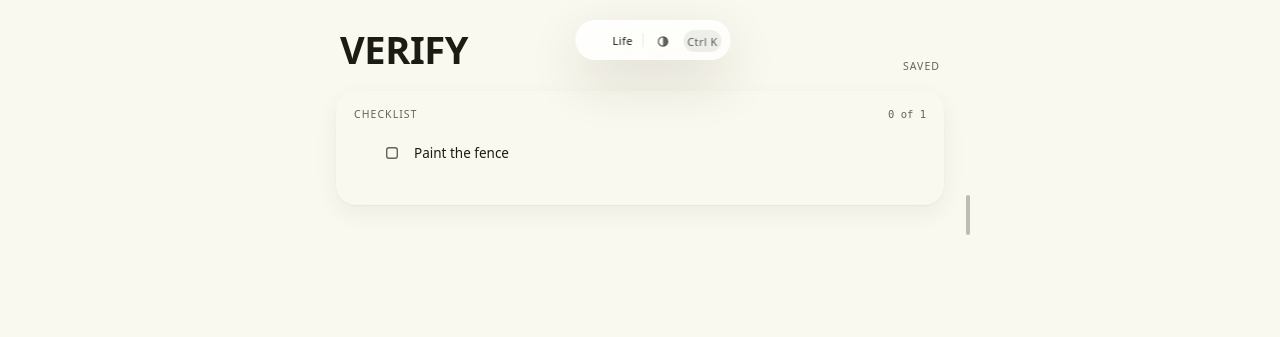
Test: KAN-479 — move to… across two pages, undo brings it back (path test) › moves the checklist to house, toasts, opens it there, and undo restores both pages
Expected: the field showing "Paint the fence" is shown, [414, 143, 704, 163]
Right-click the element showing "checklist 0 of 1" at (640, 148), box [336, 91, 944, 204]
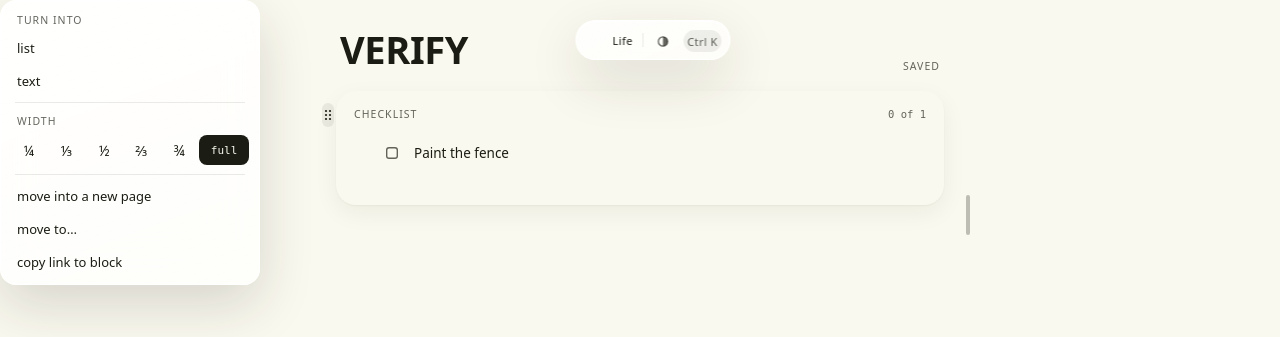
Click the menu item "move to…" at (47, 229), box [17, 220, 77, 238]
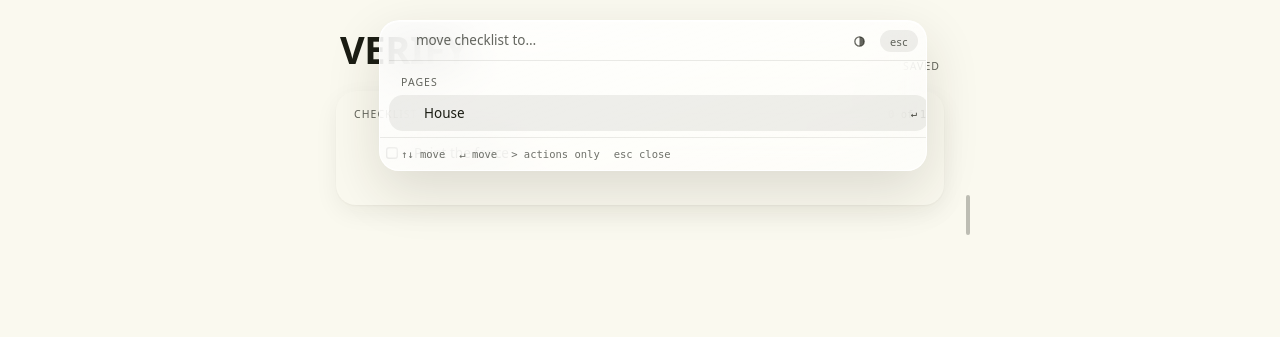
Type "House" into the dropdown named "command palette" at (627, 40), box [416, 31, 838, 49]
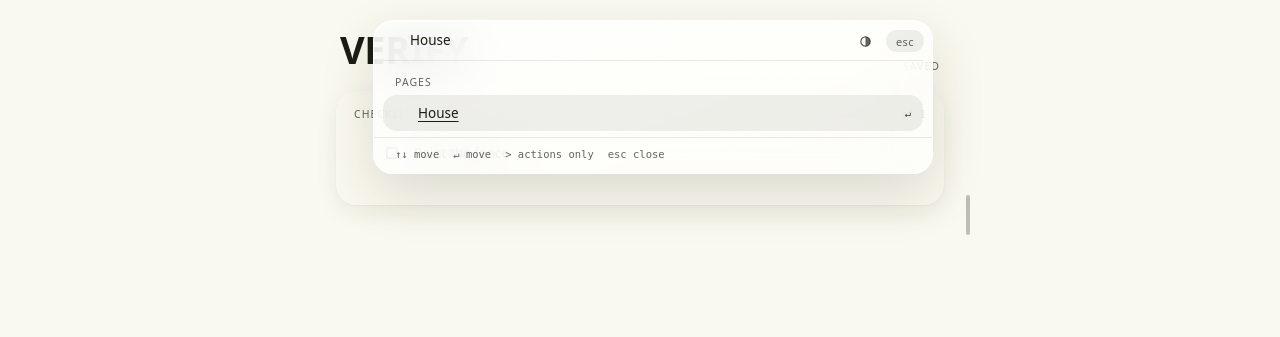
Now the option "House ↵" is shown, box [383, 95, 923, 131]
Press Enter
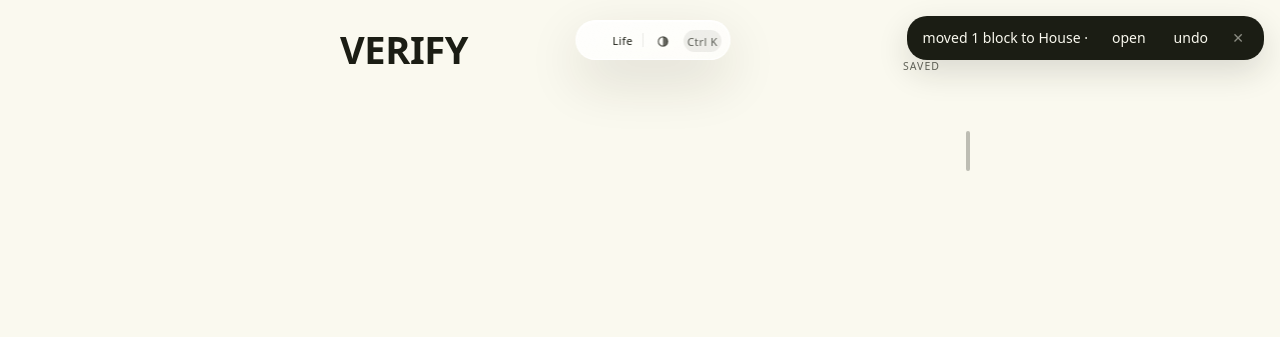
Expected: the field showing "Paint the fence" is not shown
Now the text "moved 1 block to House ·" is shown, box [923, 28, 1088, 48]
`open` navigates to house, whose last (only) block is the checklist.
Click the button "open" at (1129, 38), box [1104, 26, 1154, 50]
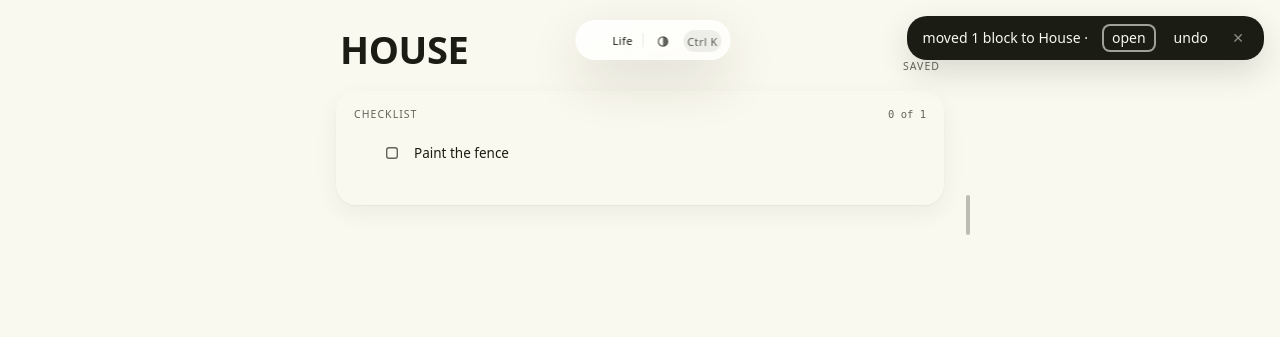
Now the field showing "Paint the fence" is shown, box [414, 143, 704, 163]
Click the button "undo" at (1191, 38), box [1166, 26, 1216, 50]
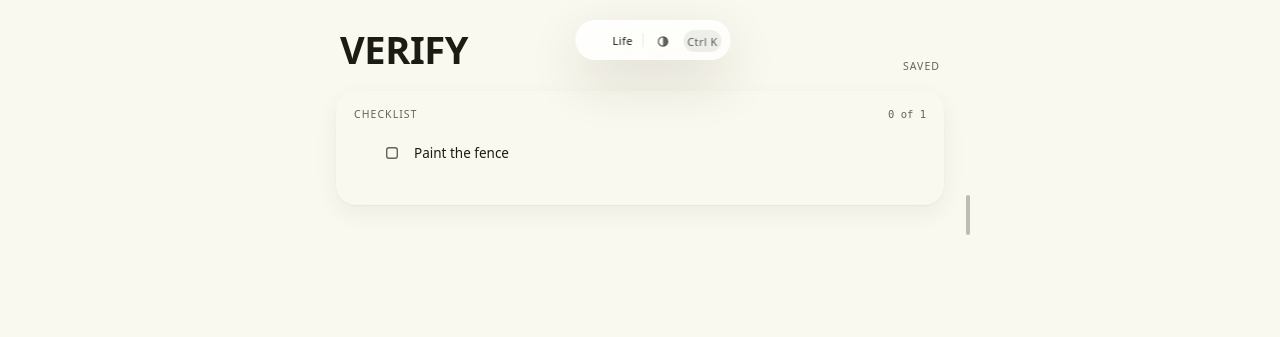
Now the field showing "Paint the fence" is shown, box [414, 143, 704, 163]
Now the text "moved 1 block to House ·" is gone
